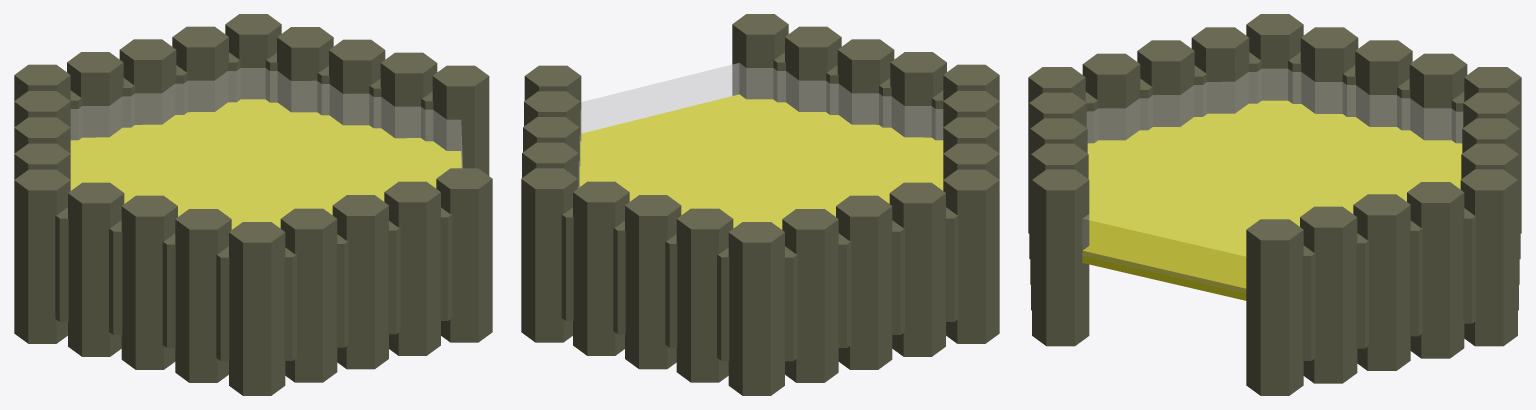
The model's file is Tatles1.fbx_Titel_Voda_5.fbx.
The picture shows the model from 3 angles, left to right: view 1: azimuth 30°, elevation 25°; view 2: azimuth 150°, elevation 25°; view 3: azimuth 270°, elevation 25°; orthographic projection.
Visible parts, largest first — view 1: Stena_5, Voda.004, Dno.004; view 2: Stena_5, Voda.004, Dno.004; view 3: Stena_5, Voda.004, Dno.004.
Part boxes in pixels (x1,y1,x2,y2): Stena_5: (14, 14, 492, 395); Voda.004: (71, 68, 462, 229); Dno.004: (70, 99, 461, 229); Stena_5: (521, 14, 999, 395); Voda.004: (578, 63, 942, 229); Dno.004: (579, 94, 943, 229); Stena_5: (1028, 14, 1521, 395); Voda.004: (1082, 69, 1462, 292); Dno.004: (1082, 100, 1462, 300).
Bounding box in the file's own units: 20.05 × 6.47 × 18.31.
